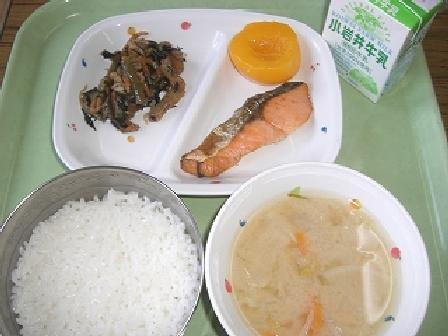Fish: (180, 81, 314, 172)
Milk: (316, 0, 443, 88)
Rice: (0, 171, 201, 328)
Soups: (204, 175, 432, 334)
peach: (222, 15, 306, 81)
salad with sauce: (76, 31, 187, 130)
